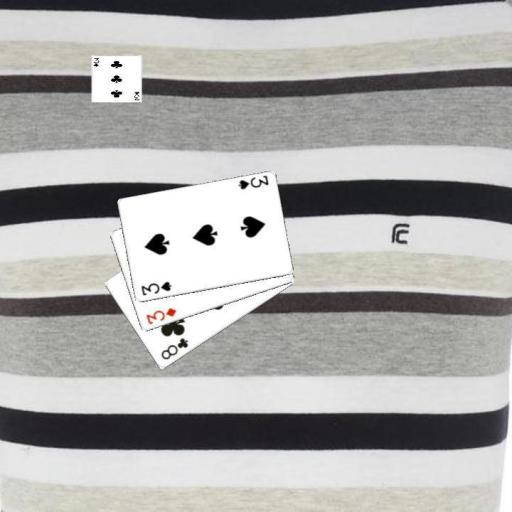card-corner: (158, 335, 190, 361), (143, 305, 178, 326), (234, 173, 270, 191), (138, 279, 173, 297)
